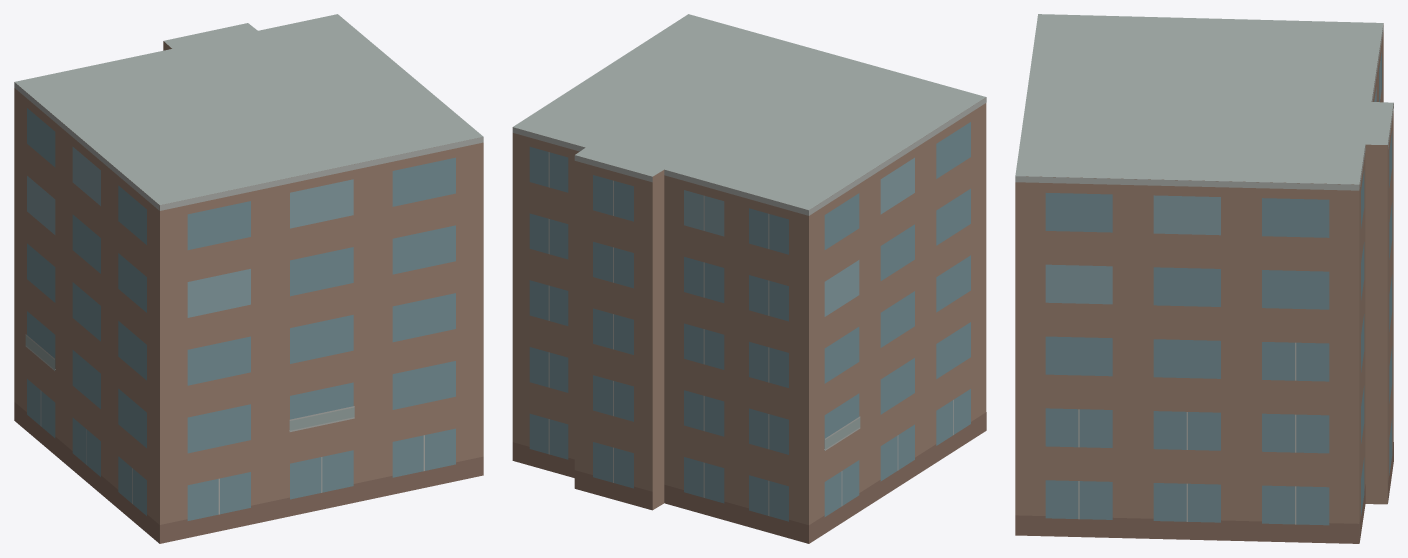
Rendered from survey-upis-33031588.glb.
The picture shows the model from 3 angles, left to right: view 1: azimuth 30°, elevation 25°; view 2: azimuth 150°, elevation 25°; view 3: azimuth 270°, elevation 25°; orthographic projection. The views are drawn at different scales.
Parts seen in each view (by area): view 1: survey-upis-33031588.tmp; view 2: survey-upis-33031588.tmp; view 3: survey-upis-33031588.tmp.
Part boxes in pixels (left/top/right/bottom): survey-upis-33031588.tmp: left=14, top=14, right=483, bottom=543; survey-upis-33031588.tmp: left=512, top=14, right=986, bottom=543; survey-upis-33031588.tmp: left=1015, top=14, right=1393, bottom=543.
Size of the model in its own units: 14.62 by 14.35 by 13.71.
